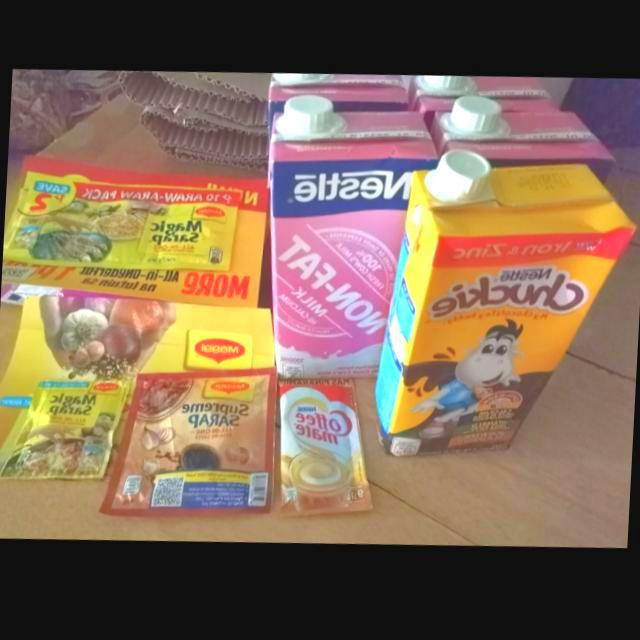cardboard: (118, 71, 273, 174)
plastic_sachet: (101, 371, 278, 520), (3, 171, 240, 273), (0, 375, 137, 481), (274, 381, 375, 521)
